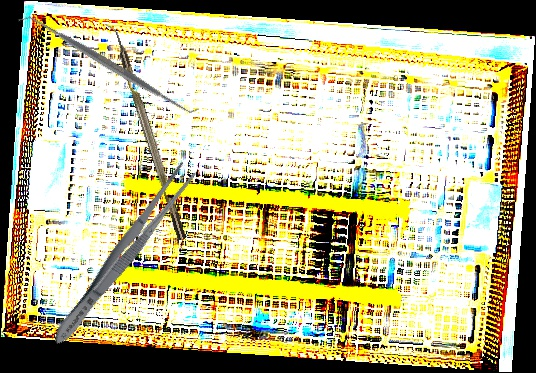Chopper: (101, 20, 186, 244)
Dressing Forceps: (44, 157, 202, 352)
Spatula Surgical: (16, 3, 201, 126)
